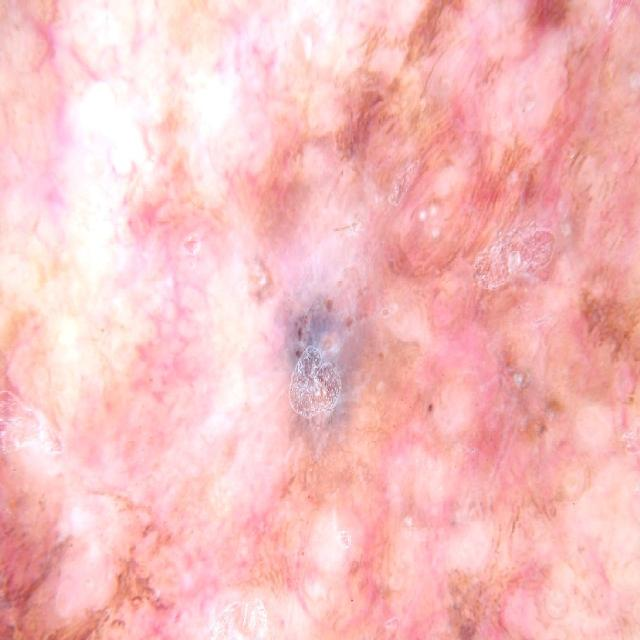Melanoma: (178, 228, 548, 640)
